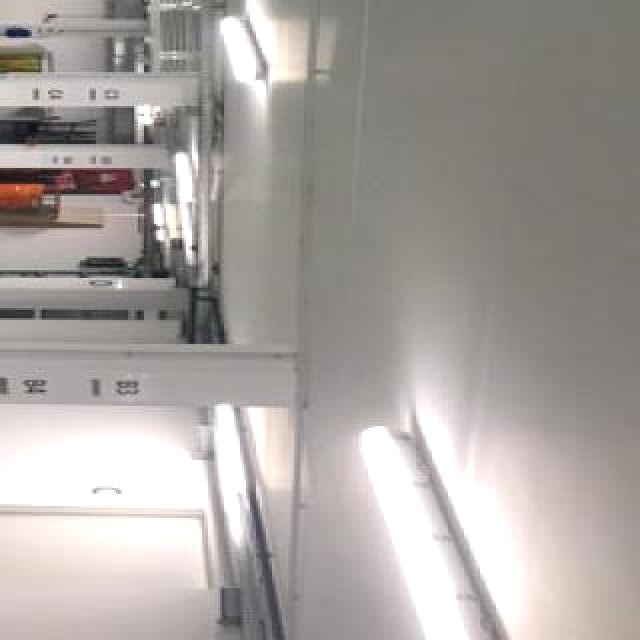fluorescent tube: (340, 378, 498, 640), (216, 0, 278, 114)
